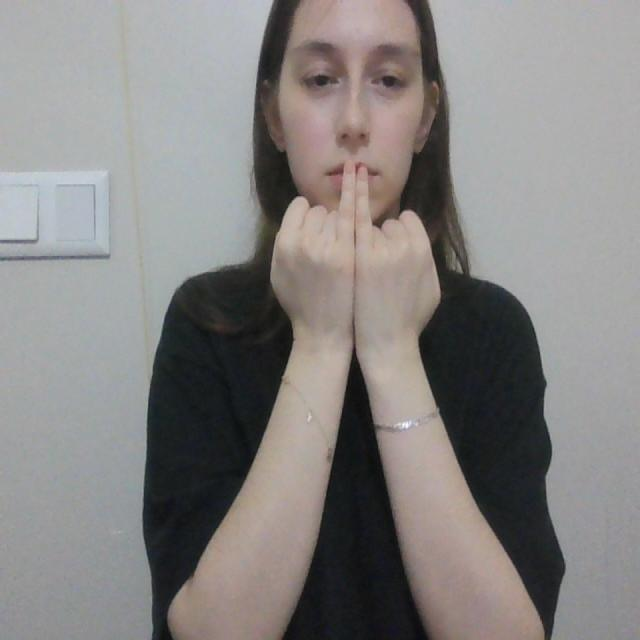Kardes: (262, 152, 446, 353)
